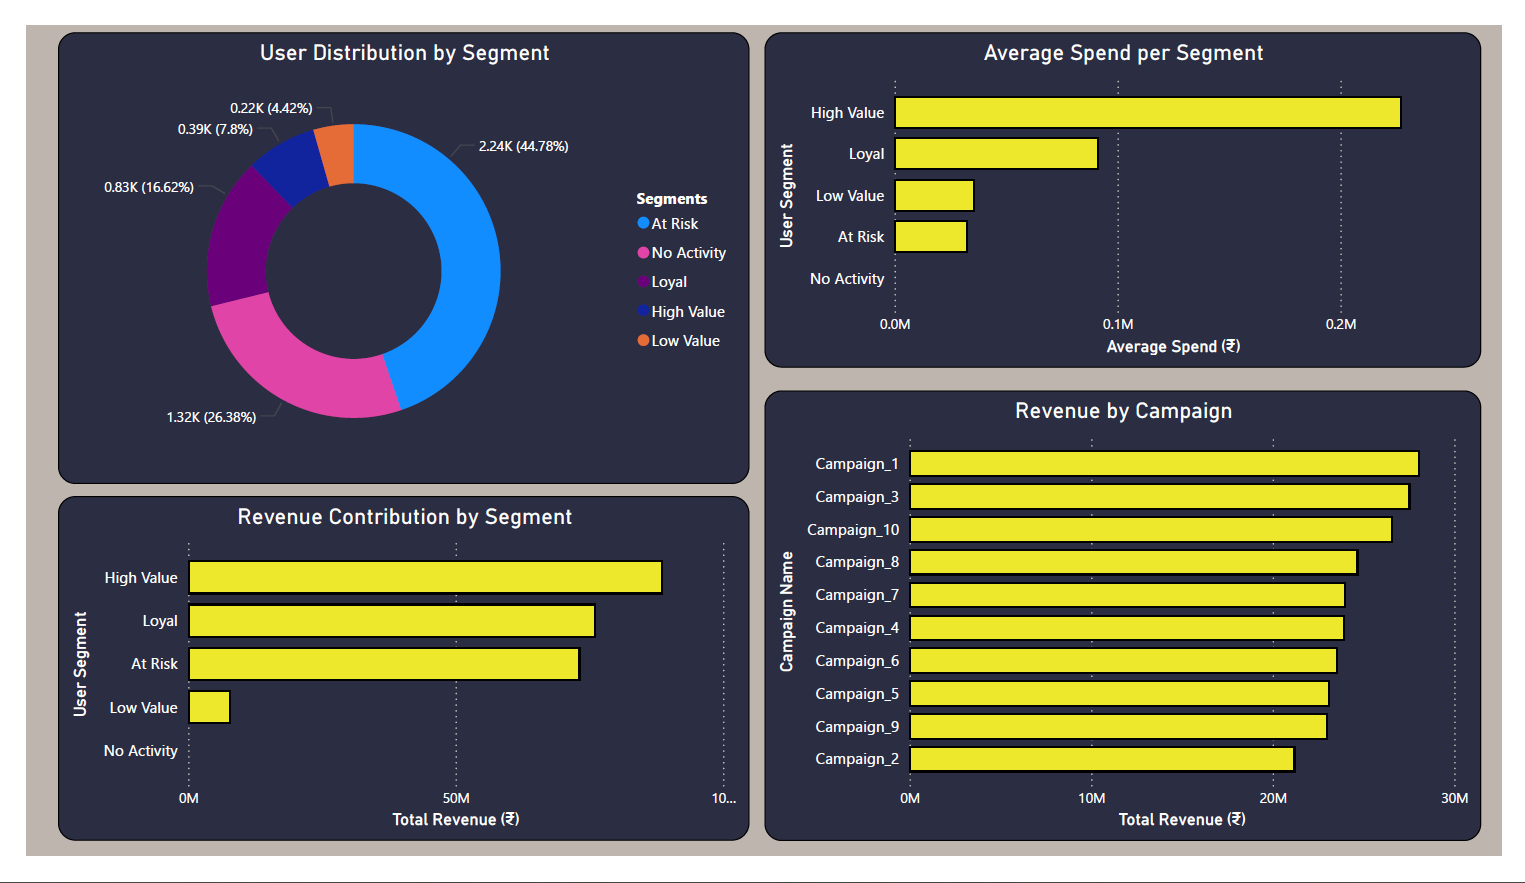

The page's visual inventory and layout, read from the dashboard file:
{"tool":"powerbi","page":{"name":"Customer Segmentation & Campaign Insights","canvas":[1280,720],"ordinal":2},"visuals":[{"type":"donutChart","title":"User Distribution by Segment","fields":{"Category":["users_segmented.segment"],"Y":["CountNonNull(users_segmented.user_id)"]},"box":[27.2,5.7,600.2,392.5],"z":0},{"type":"clusteredBarChart","title":"Revenue Contribution by Segment","fields":{"Category":["users_segmented.segment"],"Y":["Sum(users_segmented.monetary)"]},"box":[27.2,408.2,600.2,299.4],"z":1000},{"type":"clusteredBarChart","title":"Revenue by Campaign","fields":{"Category":["campaign_advanced.campaign_name"],"Y":["Sum(campaign_advanced.revenue)"]},"box":[640.3,316.6,621.7,391],"z":1001},{"type":"barChart","title":"Average Spend per Segment","fields":{"Category":["users_segmented.segment"],"Y":["Avg(users_segmented.monetary)"]},"box":[640.3,5.7,621.7,290.8],"z":1002}]}

Visuals, with their boxes in screenshot pixels (x1, y1, x2, y2), scaled from the page's 1280x720 canvas onto the 1525x883 screenshot:
"User Distribution by Segment" donutChart: bbox=(32, 7, 747, 488)
"Revenue Contribution by Segment" clusteredBarChart: bbox=(32, 501, 747, 868)
"Revenue by Campaign" clusteredBarChart: bbox=(763, 388, 1504, 868)
"Average Spend per Segment" barChart: bbox=(763, 7, 1504, 364)
